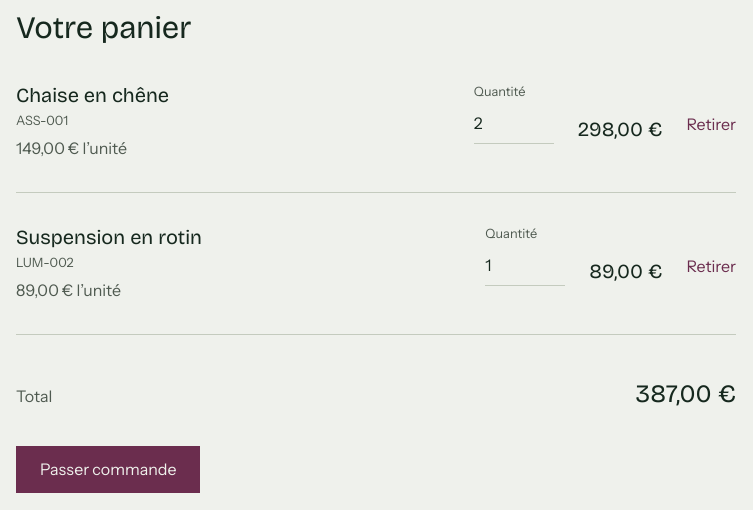
Scenario: CartPage › met à jour le total après un changement de quantité
The width and height of the screenshot is (753, 510).
Replace the text in the number field labelled "Quantité" next to "298,00 €" with "3" at (514, 124), box [474,104,554,144]
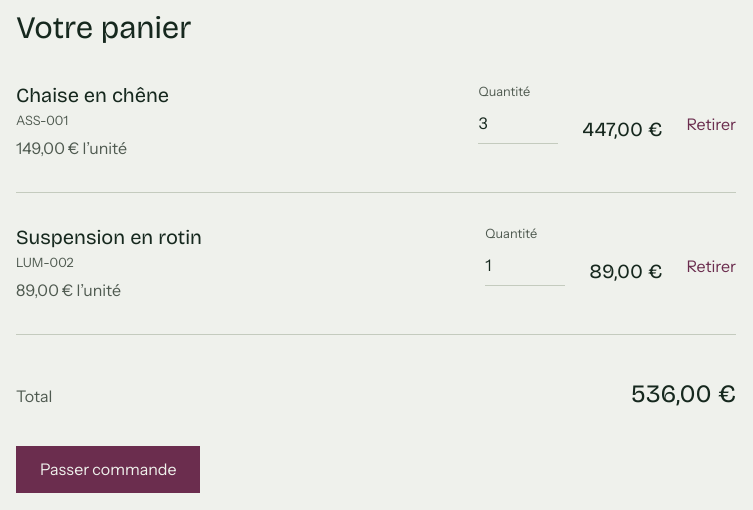
Expected: the text "536,00 €" is shown, [631,375,736,414]
